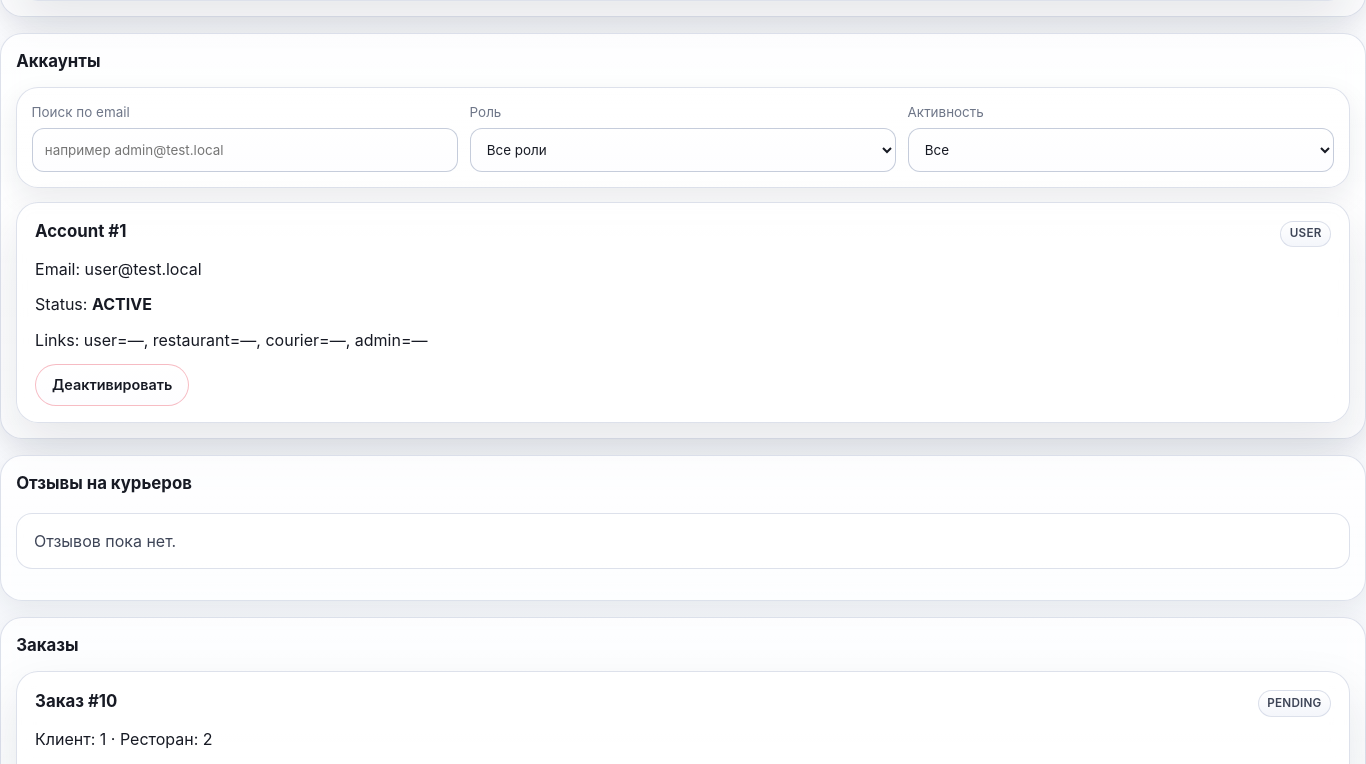
Test: AdminDashboardPage › loads data and toggles account active happy-path with UI refresh
The width and height of the screenshot is (1366, 764).
(page scrolled)
Expected: the heading "Account #1" is shown, [35, 219, 126, 244]
Click the button "Деактивировать" at (112, 385), box [35, 364, 190, 406]
(page scrolled)
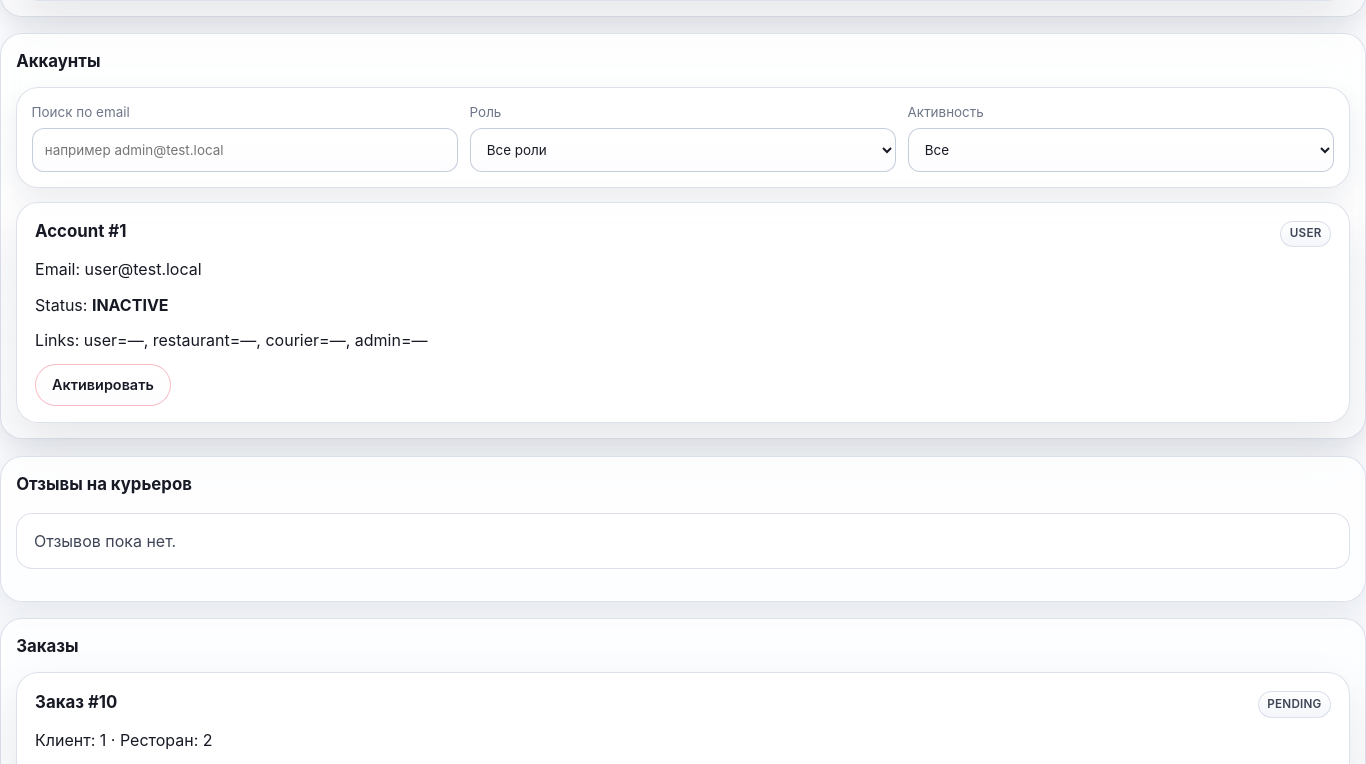
Now the text "INACTIVE" is shown, box [92, 295, 168, 315]
